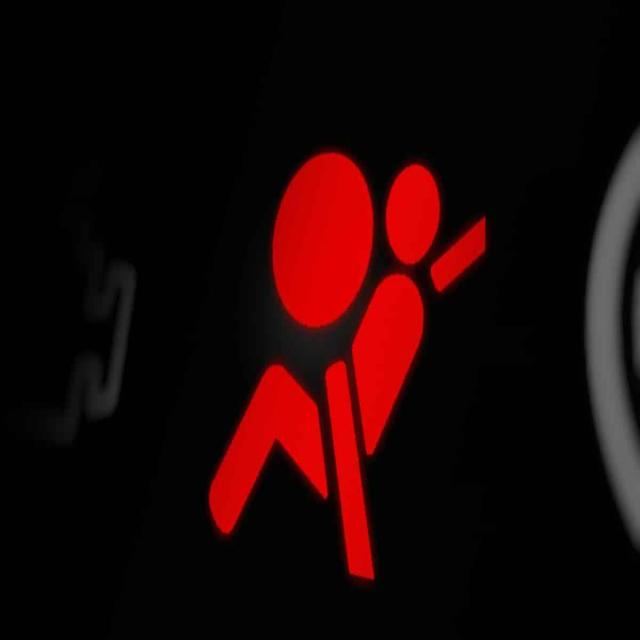kontrolka: (199, 110, 504, 590)
